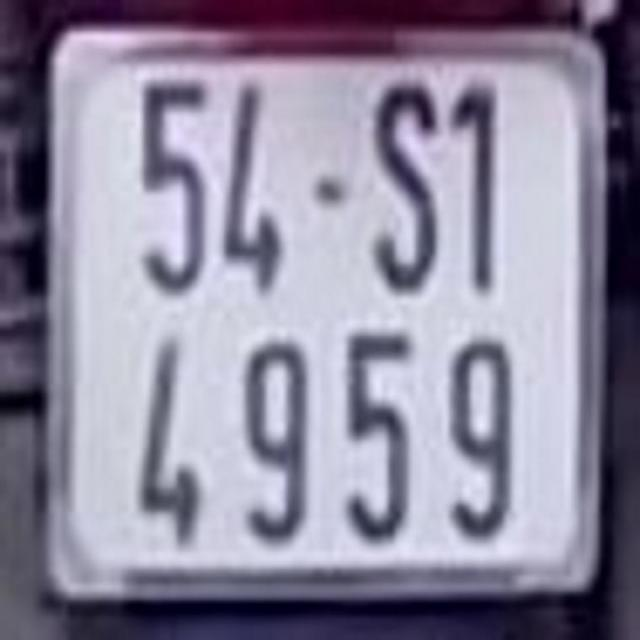1: (455, 79, 516, 292)
4: (148, 322, 208, 544), (229, 78, 291, 292)
5: (140, 76, 213, 295), (344, 328, 414, 544)
9: (241, 338, 312, 544), (451, 337, 518, 553)
S: (378, 79, 445, 296)
